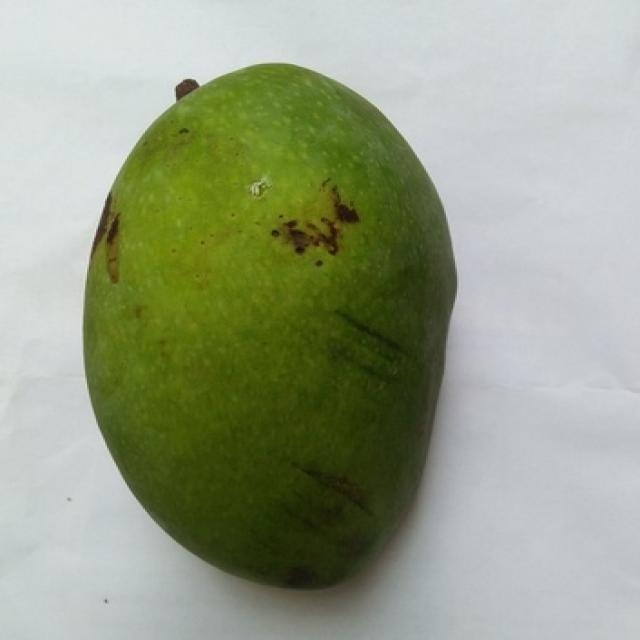Mango: (83, 64, 455, 586)
